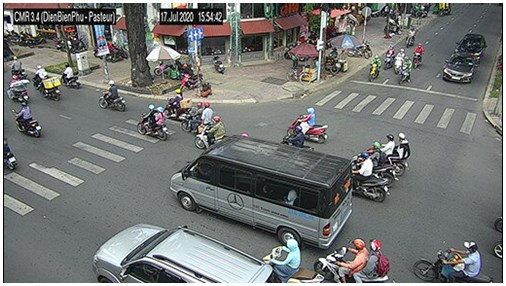xe_hoi: (91, 222, 273, 283), (441, 52, 476, 84), (455, 32, 487, 63)
xe_khach: (170, 134, 354, 248)
xe_may: (412, 240, 494, 283), (314, 237, 389, 283), (262, 238, 324, 283), (348, 152, 390, 204), (286, 107, 329, 144), (366, 141, 396, 187), (381, 132, 411, 176), (194, 115, 230, 149), (137, 103, 169, 141), (11, 101, 42, 137), (182, 101, 214, 132), (162, 89, 192, 120), (99, 79, 127, 111), (282, 125, 314, 151), (7, 75, 29, 104), (42, 72, 61, 100), (61, 62, 81, 88), (10, 55, 27, 80), (397, 54, 411, 84), (5, 137, 17, 171), (32, 65, 46, 92), (367, 54, 381, 80), (179, 73, 202, 88), (383, 44, 395, 70), (412, 42, 422, 70), (394, 48, 405, 73), (405, 27, 416, 46)
